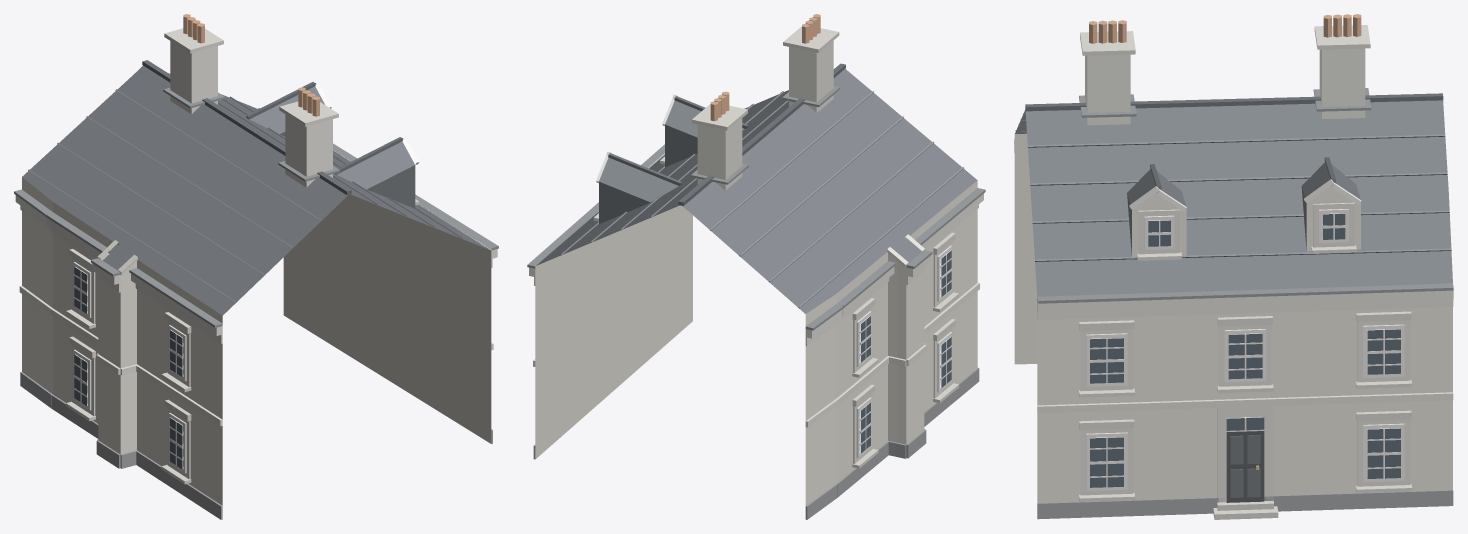
The picture shows the model from 3 angles, left to right: view 1: azimuth 30°, elevation 25°; view 2: azimuth 150°, elevation 25°; view 3: azimuth 270°, elevation 25°; orthographic projection. The views are drawn at different scales.
Parts seen in each view (by area): view 1: harl_cream, slate, string, chim_render, dress_cream, lead, slate_lt, slate_dk, plinth, frame, pot, window_glass_009; view 2: harl_cream, slate, string, chim_render, slate_dk, dress_cream, lead, slate_lt, plinth, frame, pot; view 3: slate, harl_cream, string, dress_cream, frame, plinth, chim_render, slate_lt, lead, slate_dk, pot, door_dark_p (+9 smaller).
Boxes of the visible parts, x1,y1,x2,y2 form: harl_cream: [22, 177, 491, 505]; slate: [22, 65, 490, 315]; string: [15, 151, 497, 479]; chim_render: [170, 41, 332, 187]; dress_cream: [66, 28, 419, 484]; lead: [14, 87, 498, 327]; slate_lt: [28, 89, 463, 303]; slate_dk: [142, 60, 415, 208]; plinth: [20, 372, 492, 519]; frame: [73, 82, 418, 473]; pot: [183, 14, 319, 116]; window_glass_009: [74, 354, 87, 405]; harl_cream: [535, 180, 977, 505]; slate: [536, 69, 977, 313]; string: [529, 153, 983, 463]; chim_render: [697, 41, 833, 190]; slate_dk: [599, 63, 845, 224]; dress_cream: [593, 26, 958, 468]; lead: [527, 86, 985, 330]; slate_lt: [560, 91, 963, 308]; plinth: [533, 367, 979, 519]; frame: [596, 94, 952, 457]; pot: [710, 14, 820, 121]; slate: [1015, 100, 1452, 296]; harl_cream: [1014, 133, 1452, 502]; string: [1014, 144, 1453, 502]; dress_cream: [1079, 25, 1412, 519]; frame: [1086, 179, 1404, 490]; plinth: [1037, 489, 1453, 519]; chim_render: [1085, 48, 1365, 125]; slate_lt: [1015, 113, 1451, 261]; lead: [1014, 88, 1453, 303]; slate_dk: [1025, 93, 1443, 255]; pot: [1089, 14, 1361, 43]; door_dark_p: [1230, 435, 1260, 497].
Bounding box in the file's own units: 11.09 × 12.06 × 11.65.
